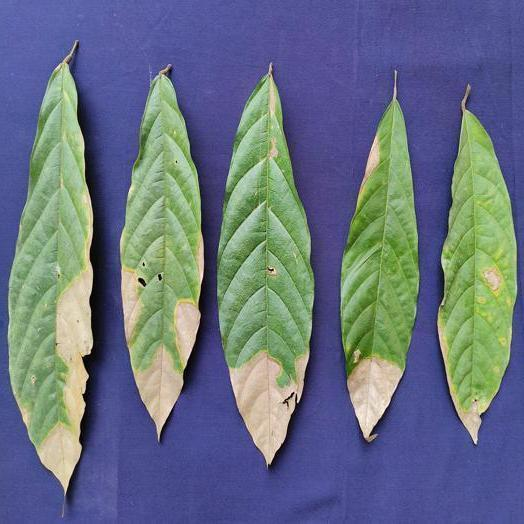Potassium: (217, 65, 313, 464), (9, 41, 92, 495), (120, 65, 203, 439), (340, 71, 418, 441), (437, 84, 516, 443)
